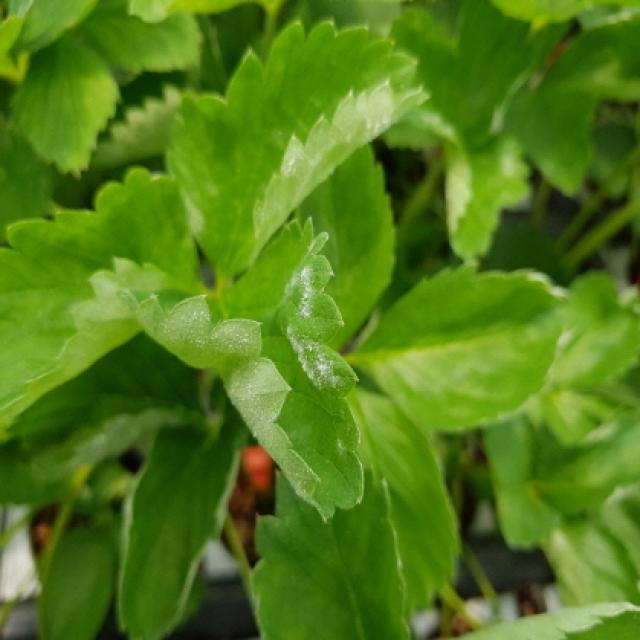Powdery Mildew Leaf: (116, 216, 366, 523), (165, 18, 431, 285)
